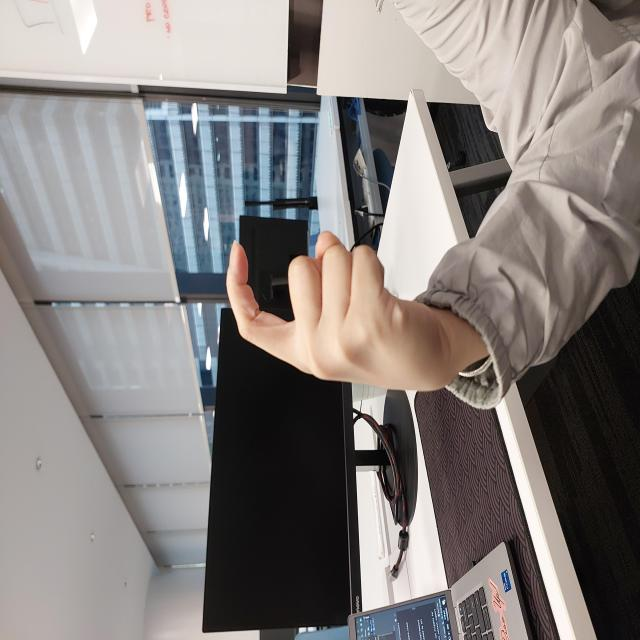X: (249, 227, 408, 443)
